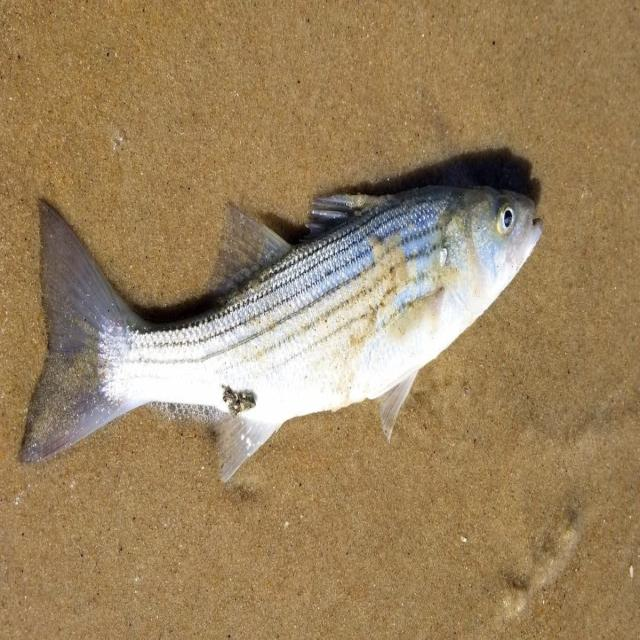Bass - Striped: (20, 186, 542, 480)
